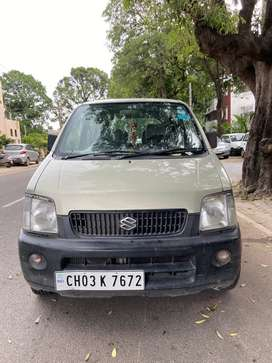CH03K7672: (55, 270, 144, 291)
